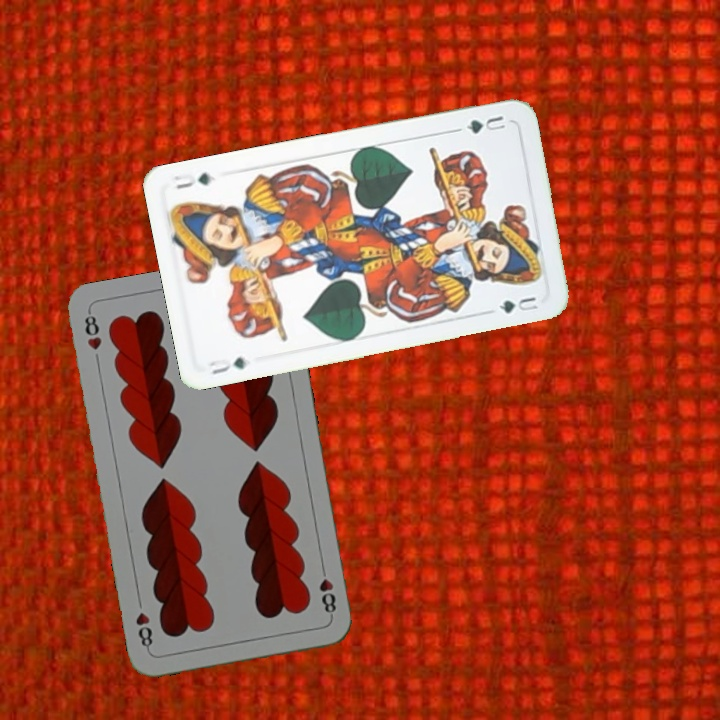GU: (462, 111, 508, 137), (206, 352, 253, 377)
H8: (315, 561, 339, 620), (80, 308, 105, 353)
